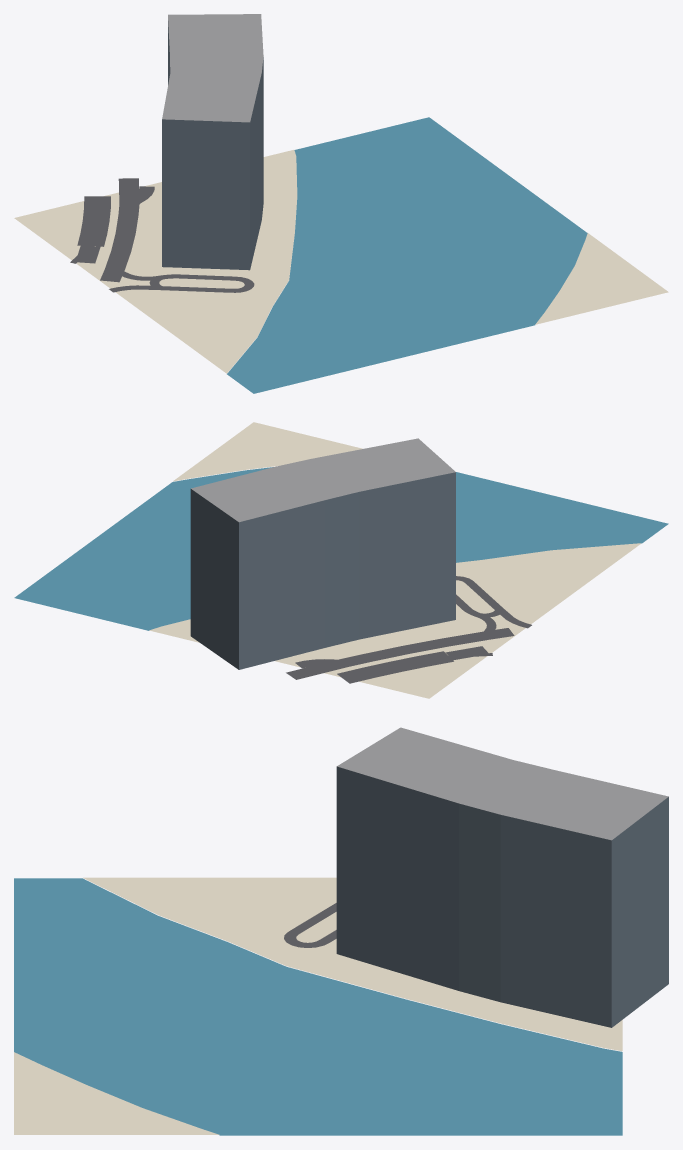
Rendered from tile_2_6_far.glb.
The picture shows the model from 3 angles, top to bottom: view 1: azimuth 30°, elevation 25°; view 2: azimuth 150°, elevation 25°; view 3: azimuth 270°, elevation 25°; orthographic projection. The views are drawn at different scales.
Parts seen in each view (by area): view 1: nature_water, nature_ground, buildings_glass_dark, buildings_roof, roads_asphalt; view 2: buildings_glass_dark, nature_water, nature_ground, buildings_roof, roads_asphalt; view 3: nature_water, buildings_glass_dark, nature_ground, buildings_roof, roads_asphalt.
Part boxes in pixels (box(x1,y1,x2,y2)): nature_water: box(227, 117, 587, 393); nature_ground: box(14, 150, 668, 373); buildings_glass_dark: box(162, 21, 263, 270); buildings_roof: box(162, 14, 263, 122); roads_asphalt: box(70, 178, 254, 292); buildings_glass_dark: box(190, 472, 455, 669); nature_water: box(14, 467, 668, 630); nature_ground: box(149, 422, 641, 698); buildings_roof: box(191, 438, 455, 522); roads_asphalt: box(286, 576, 531, 683); nature_water: box(14, 878, 622, 1135); buildings_glass_dark: box(336, 766, 668, 1027); nature_ground: box(14, 877, 622, 1134); buildings_roof: box(337, 727, 668, 840); roads_asphalt: box(284, 903, 336, 947).
Size of the model in its own units: 252 by 85.35 by 269.
